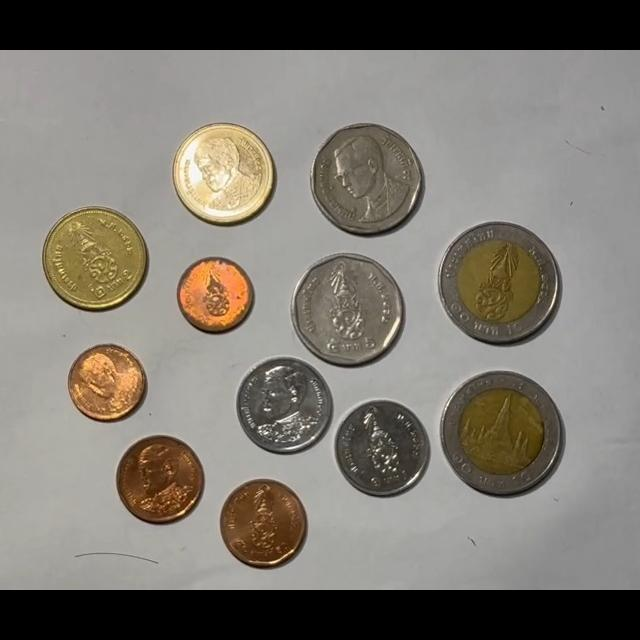1-baht: (236, 356, 333, 454), (334, 400, 431, 497)
10-baht: (440, 371, 565, 496), (438, 222, 562, 344)
2-baht: (43, 207, 147, 312), (173, 122, 277, 226)
25-satang: (68, 344, 147, 422), (177, 257, 254, 333)
5-baht: (291, 252, 405, 366), (311, 123, 424, 235)
50-satang: (219, 479, 307, 568), (116, 435, 204, 523)
